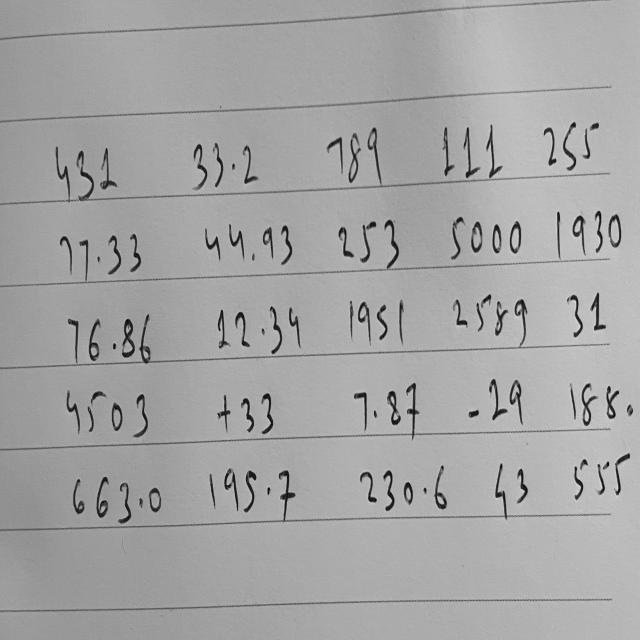Number: (208, 469, 295, 520), (71, 476, 161, 524), (68, 312, 151, 363), (65, 388, 148, 439), (360, 464, 448, 512), (453, 292, 527, 348), (217, 305, 301, 353), (204, 224, 293, 268), (59, 233, 142, 280), (354, 381, 418, 441), (54, 141, 118, 199), (326, 125, 382, 185), (557, 209, 622, 259), (441, 125, 503, 177), (192, 143, 259, 191), (451, 215, 521, 260), (338, 218, 399, 269), (467, 377, 523, 430), (573, 451, 631, 502), (543, 119, 599, 171), (568, 381, 634, 425), (348, 299, 406, 347), (216, 392, 274, 434), (493, 462, 528, 520), (566, 291, 606, 338)
